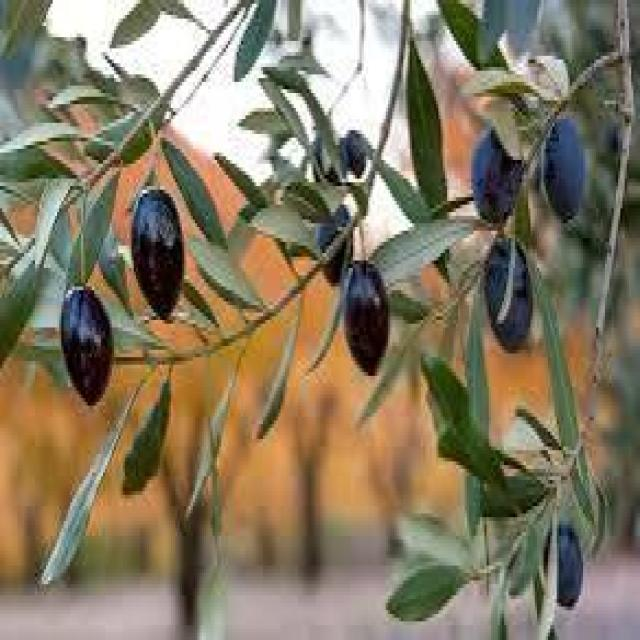Healthy: (130, 184, 185, 318), (64, 292, 115, 407), (341, 266, 391, 377), (544, 115, 585, 220)
